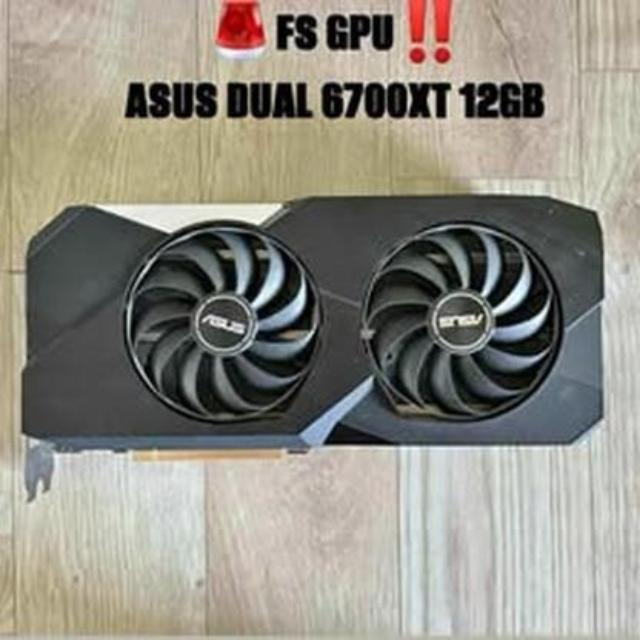GPU: (10, 194, 608, 466)
